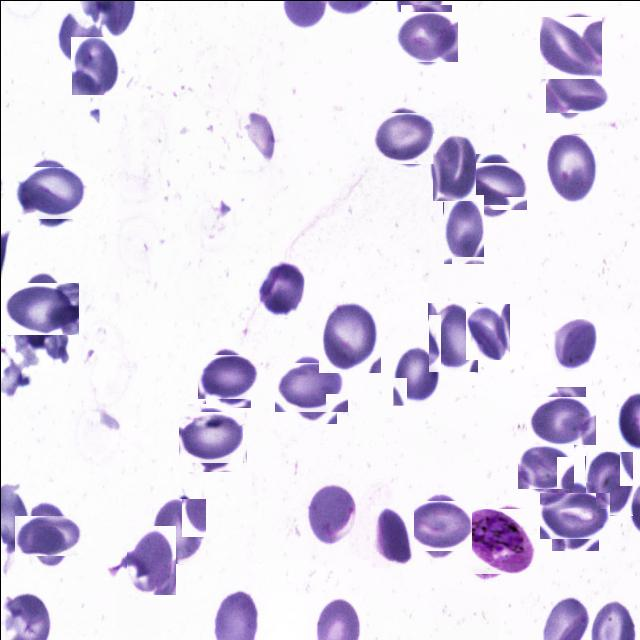red blood cell: (318, 299, 380, 372), (8, 275, 72, 340), (538, 15, 602, 78), (18, 161, 81, 224), (280, 356, 342, 417), (150, 498, 205, 564), (182, 407, 242, 467), (427, 302, 477, 372), (546, 134, 596, 204), (531, 391, 590, 450), (408, 496, 468, 554), (126, 525, 175, 594), (396, 7, 454, 65), (546, 486, 604, 544), (306, 482, 357, 546), (375, 109, 432, 166), (465, 158, 522, 214), (548, 60, 604, 116), (584, 451, 632, 515), (20, 508, 76, 562), (431, 133, 475, 201), (70, 36, 120, 95), (392, 345, 440, 405), (442, 194, 483, 264), (201, 350, 254, 403), (370, 505, 413, 568), (256, 260, 304, 316), (520, 441, 570, 492), (465, 303, 509, 359), (550, 318, 596, 370)
trophozoite: (461, 505, 533, 577)
